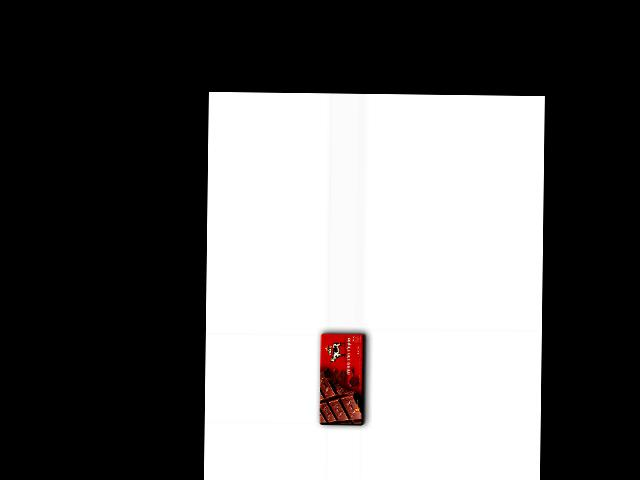chocolate: (317, 331, 367, 427)
